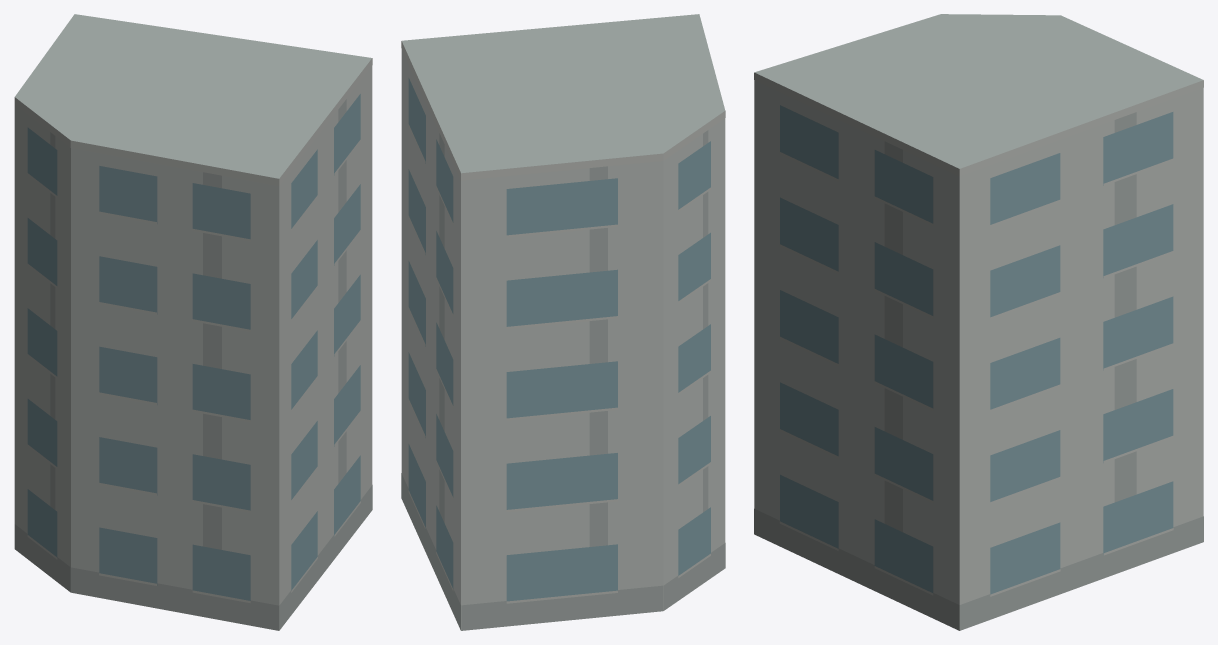
The model's file is survey-upis-32792022.glb.
3 renders of one model, left to right at view 1: azimuth 30°, elevation 25°; view 2: azimuth 150°, elevation 25°; view 3: azimuth 270°, elevation 25°, orthographic. The views are drawn at different scales.
Visible parts, largest first — view 1: survey-upis-32792022.tmp; view 2: survey-upis-32792022.tmp; view 3: survey-upis-32792022.tmp.
Part boxes in pixels (bbox=[...]): survey-upis-32792022.tmp: bbox=[14, 14, 372, 630]; survey-upis-32792022.tmp: bbox=[401, 14, 725, 630]; survey-upis-32792022.tmp: bbox=[754, 14, 1203, 630].
Size of the model in its own units: 10.8 by 15 by 13.24.
